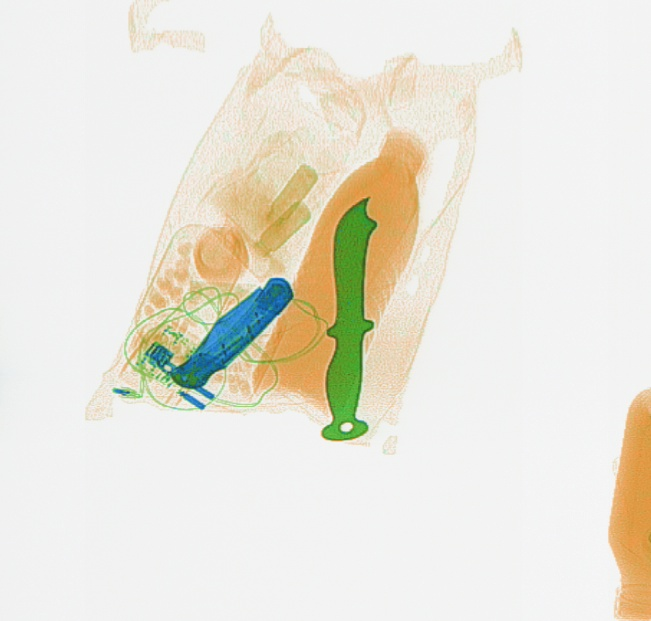knife: (319, 196, 377, 447), (165, 275, 293, 386)
